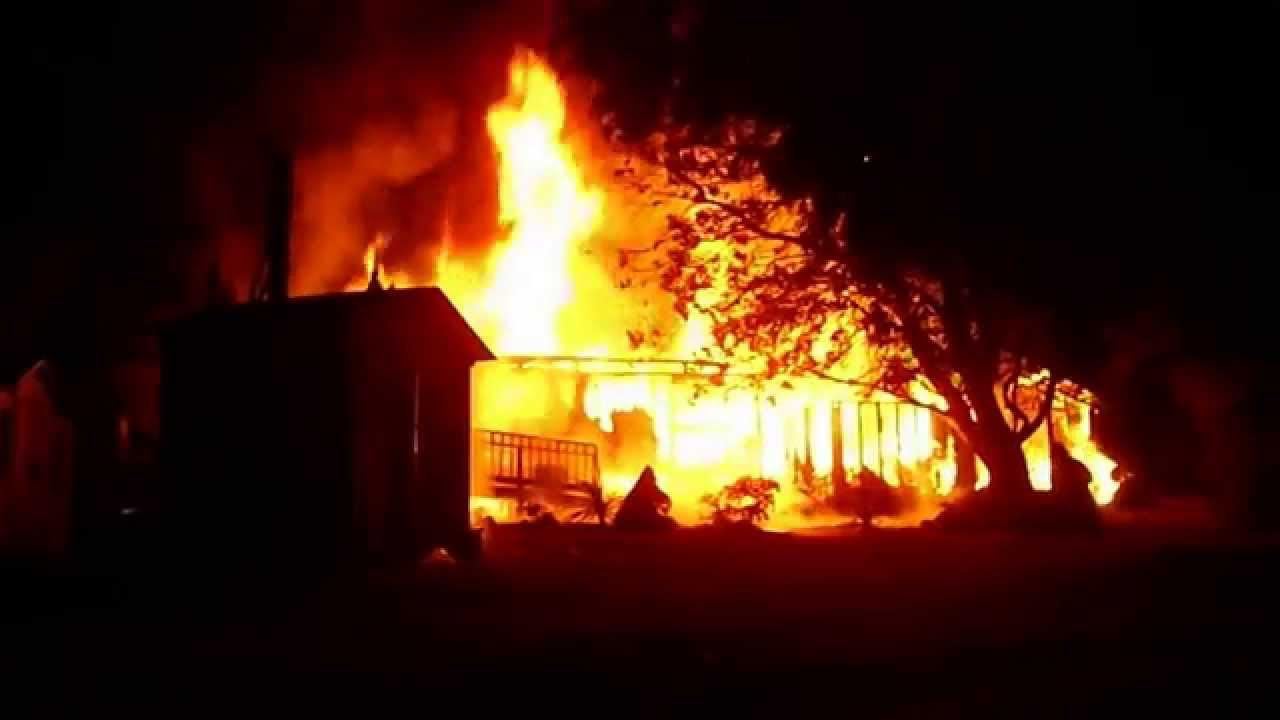fire: (342, 27, 1133, 528)
